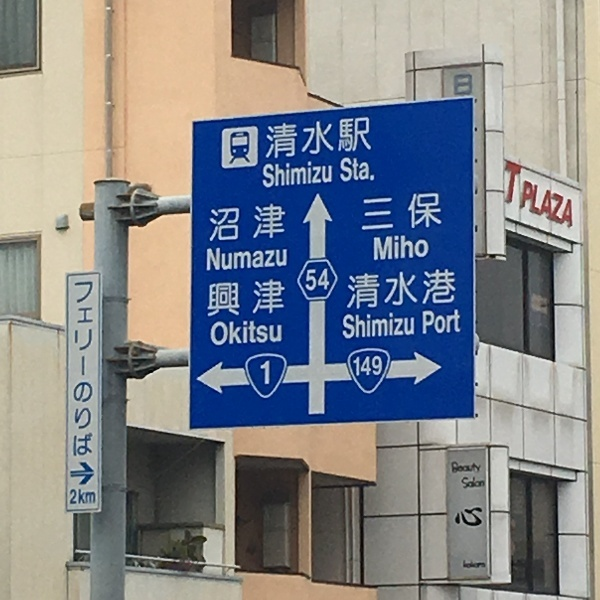text: (81, 282, 93, 457), (75, 282, 80, 457), (529, 180, 544, 228), (545, 180, 560, 228), (273, 117, 288, 160), (289, 117, 304, 160), (305, 117, 320, 160), (321, 117, 336, 160), (337, 117, 352, 160), (353, 117, 368, 160), (353, 268, 368, 311), (369, 268, 384, 311), (385, 268, 400, 311), (401, 268, 416, 311), (417, 268, 432, 311), (433, 268, 448, 311), (225, 202, 240, 242), (241, 202, 256, 242), (257, 202, 272, 242), (209, 278, 224, 317), (225, 278, 240, 317), (241, 278, 256, 317), (257, 278, 272, 317), (369, 192, 384, 231), (385, 192, 400, 231), (401, 192, 416, 231), (417, 192, 432, 231), (561, 180, 573, 228), (210, 202, 224, 242), (273, 202, 286, 242), (273, 278, 285, 317), (273, 160, 288, 189), (289, 160, 304, 189), (305, 160, 320, 189), (353, 312, 368, 340), (369, 312, 384, 340), (385, 312, 400, 340), (209, 245, 224, 272), (225, 245, 240, 272), (241, 245, 256, 272), (257, 245, 272, 272), (225, 320, 240, 347), (241, 320, 256, 347), (257, 320, 272, 347), (385, 234, 400, 261), (401, 234, 416, 261), (513, 160, 522, 205), (401, 312, 415, 340), (433, 192, 443, 231), (433, 309, 448, 335), (273, 245, 287, 272), (353, 158, 368, 183), (211, 320, 224, 347), (321, 160, 333, 189), (417, 234, 429, 261), (353, 356, 368, 377), (307, 268, 320, 292), (449, 309, 461, 335), (449, 268, 456, 311), (340, 158, 352, 183), (465, 507, 480, 526), (369, 356, 382, 377), (374, 234, 384, 261), (261, 361, 272, 385), (263, 160, 272, 189), (422, 309, 432, 335), (343, 312, 352, 340), (273, 320, 282, 347), (81, 489, 96, 505), (507, 160, 512, 205), (454, 74, 464, 96), (321, 268, 330, 292), (267, 117, 272, 160), (363, 192, 368, 231), (465, 477, 480, 489), (465, 74, 473, 96), (348, 268, 352, 311), (455, 507, 464, 526), (465, 462, 480, 473), (70, 489, 80, 505), (369, 158, 375, 183), (465, 559, 480, 569), (525, 180, 528, 228), (452, 462, 464, 473), (369, 117, 372, 160), (481, 559, 485, 569), (461, 477, 464, 489), (481, 477, 484, 489), (207, 245, 208, 272), (481, 507, 482, 526), (481, 462, 482, 473), (463, 559, 464, 569)
